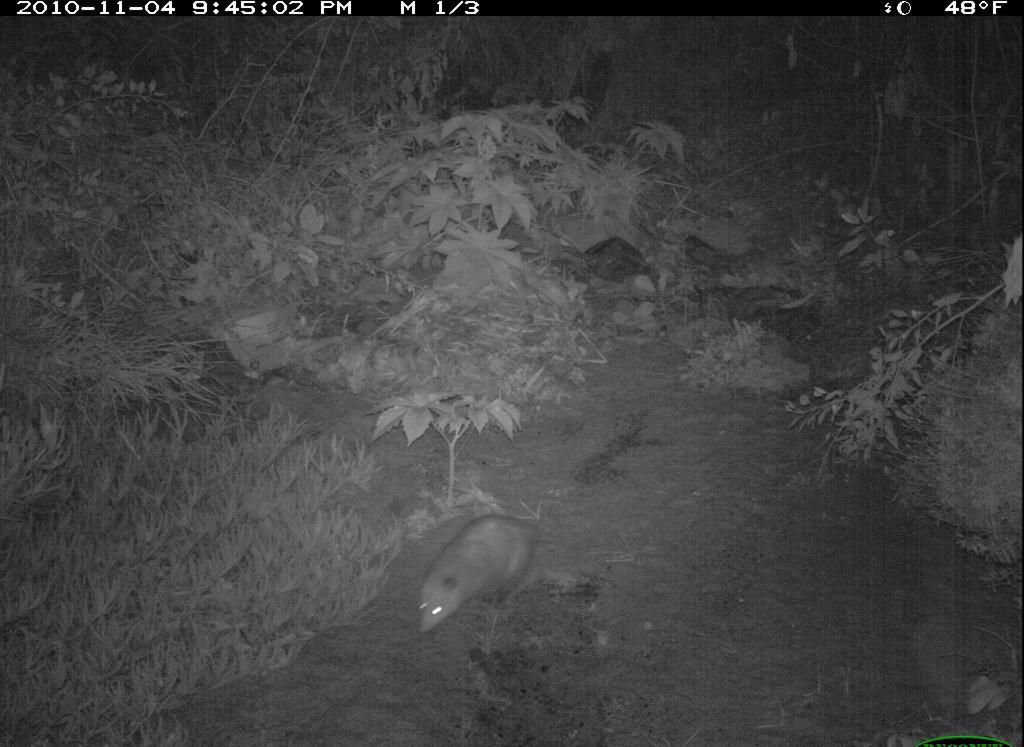opossum: (400, 491, 560, 646)
